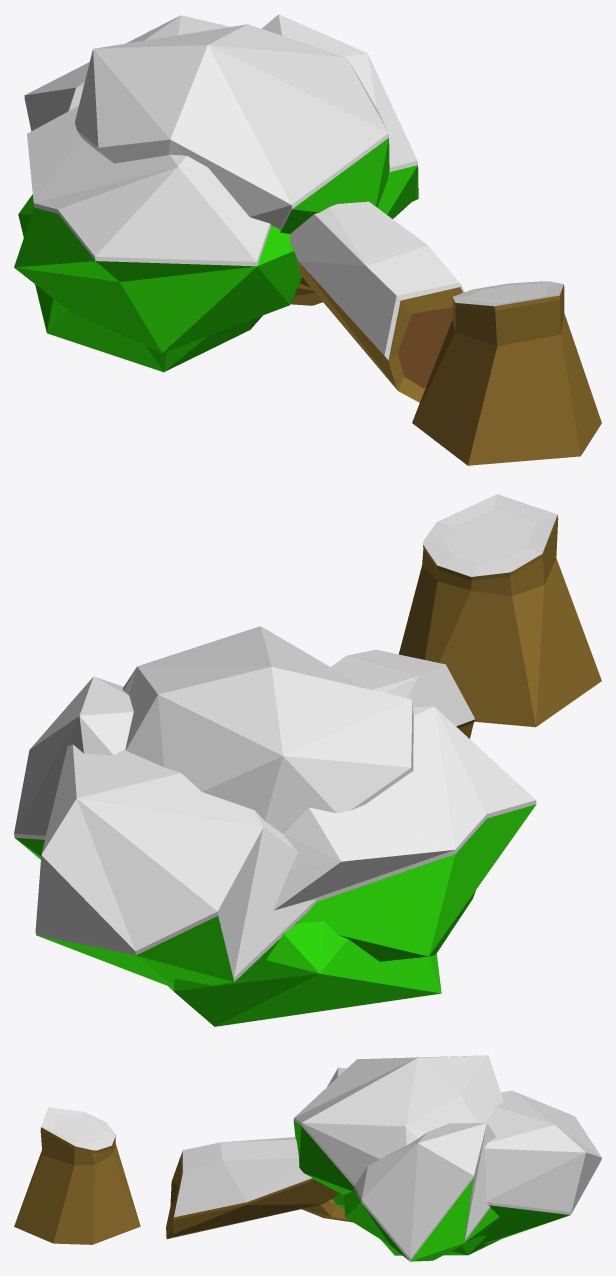
The model's file is Tree#17_Snow.fbx.
The picture shows the model from 3 angles, top to bottom: view 1: azimuth 30°, elevation 25°; view 2: azimuth 150°, elevation 25°; view 3: azimuth 270°, elevation 25°; orthographic projection. The views are drawn at different scales.
Visible parts, largest first — view 1: Tree#17_Snow; view 2: Tree#17_Snow; view 3: Tree#17_Snow.
Part boxes in pixels (x1,y1,x2,y2): Tree#17_Snow: (14,14,601,465); Tree#17_Snow: (14,494,601,1026); Tree#17_Snow: (14,1055,601,1261).
Size of the model in its own units: 405 by 291 by 799.
